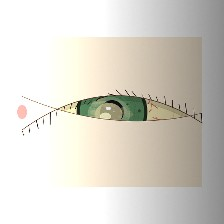corneal_ulcer: (87, 96, 131, 132)
